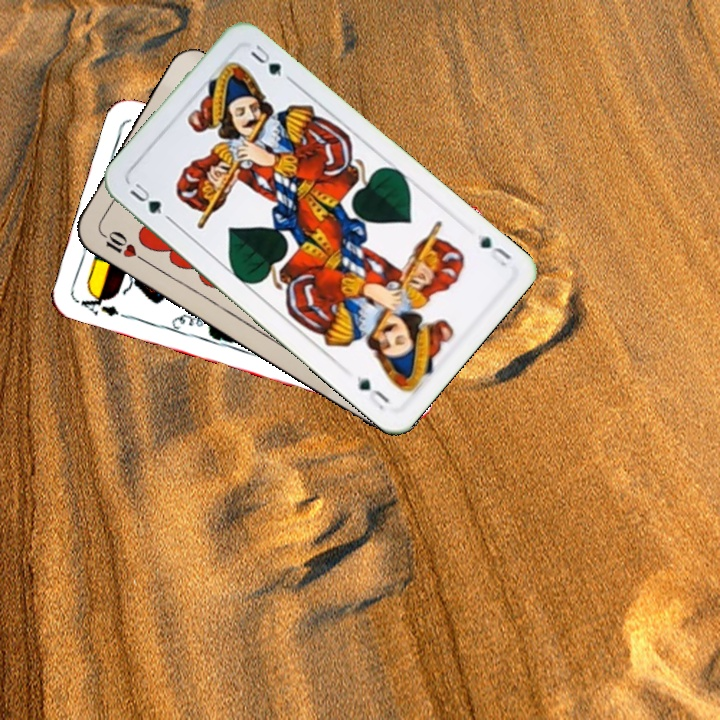EA: (74, 287, 133, 321)
GU: (473, 230, 514, 269), (125, 179, 165, 217)
H10: (95, 226, 148, 265)
